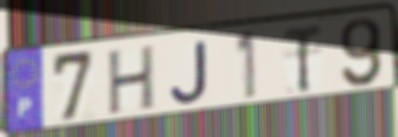1: (234, 28, 259, 103)
7: (50, 49, 98, 127)
9: (337, 16, 383, 89)
H: (106, 42, 157, 118)
J: (168, 38, 211, 106)
T: (281, 21, 325, 96)
